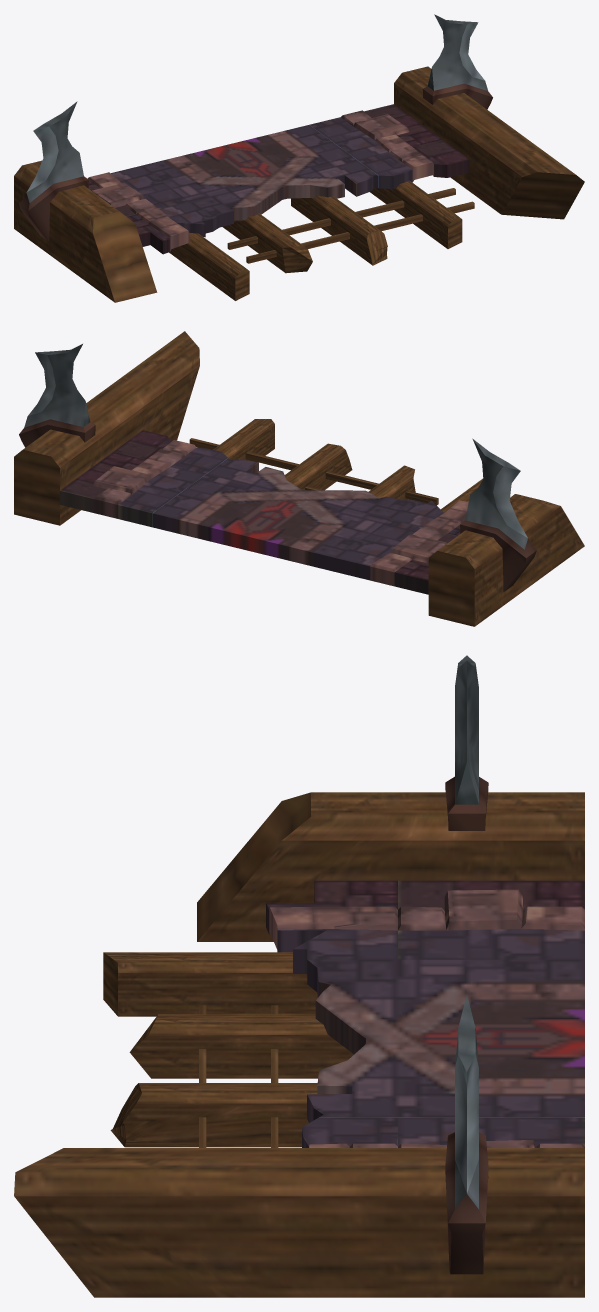
File: Bridge_Cap_16_A.FBX
3 views of the same model, one above another, from view 1: azimuth 30°, elevation 25°; view 2: azimuth 150°, elevation 25°; view 3: azimuth 270°, elevation 25° (orthographic). The views are drawn at different scales.
Parts seen in each view (by area): view 1: Bridge_Cap_16_A; view 2: Bridge_Cap_16_A; view 3: Bridge_Cap_16_A.
Boxes of the visible parts, <box> form: Bridge_Cap_16_A: <box>14,14,584,302</box>; Bridge_Cap_16_A: <box>14,331,584,626</box>; Bridge_Cap_16_A: <box>14,655,584,1297</box>.
Size of the model in its own units: 1101 by 331 by 611.
1 material, 1 textured.
